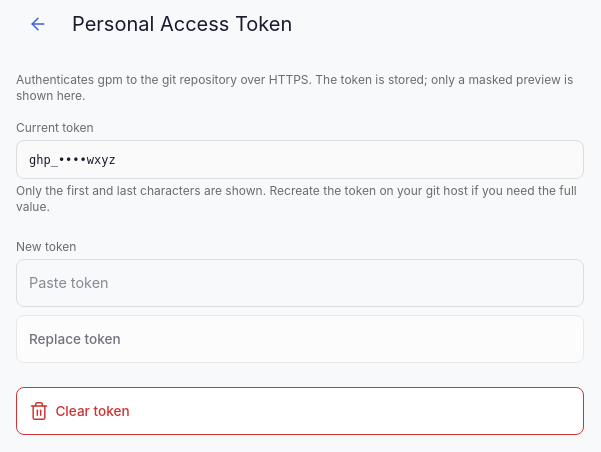
Test: PatPage › Replace is disabled until a token is entered
This screenshot has width=601, height=452.
Expected: the button "Replace token" is disabled, left=16, top=315, right=584, bottom=363
Type "ghp_newtokenvalue" into the password field with id "new-pat".
click(300, 283); type("ghp_newtokenvalue")  # box left=16, top=259, right=584, bottom=307
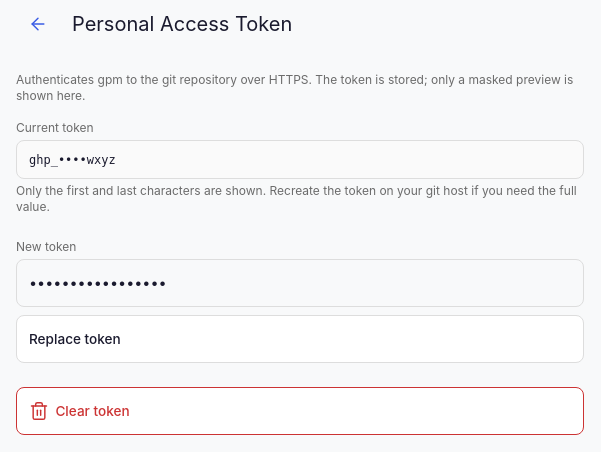
Expected: the button "Replace token" is enabled, left=16, top=315, right=584, bottom=363
